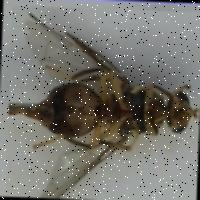Oriental-fruit-fly: (5, 5, 200, 200)
